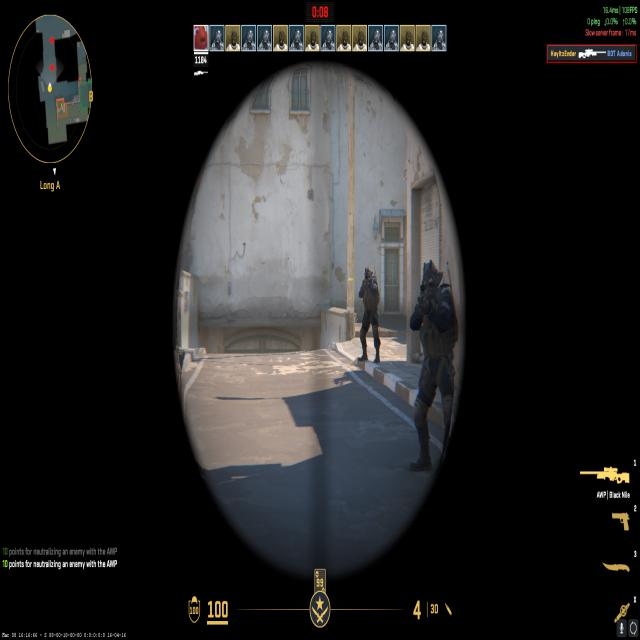ct: (407, 251, 456, 484), (352, 256, 386, 376)
